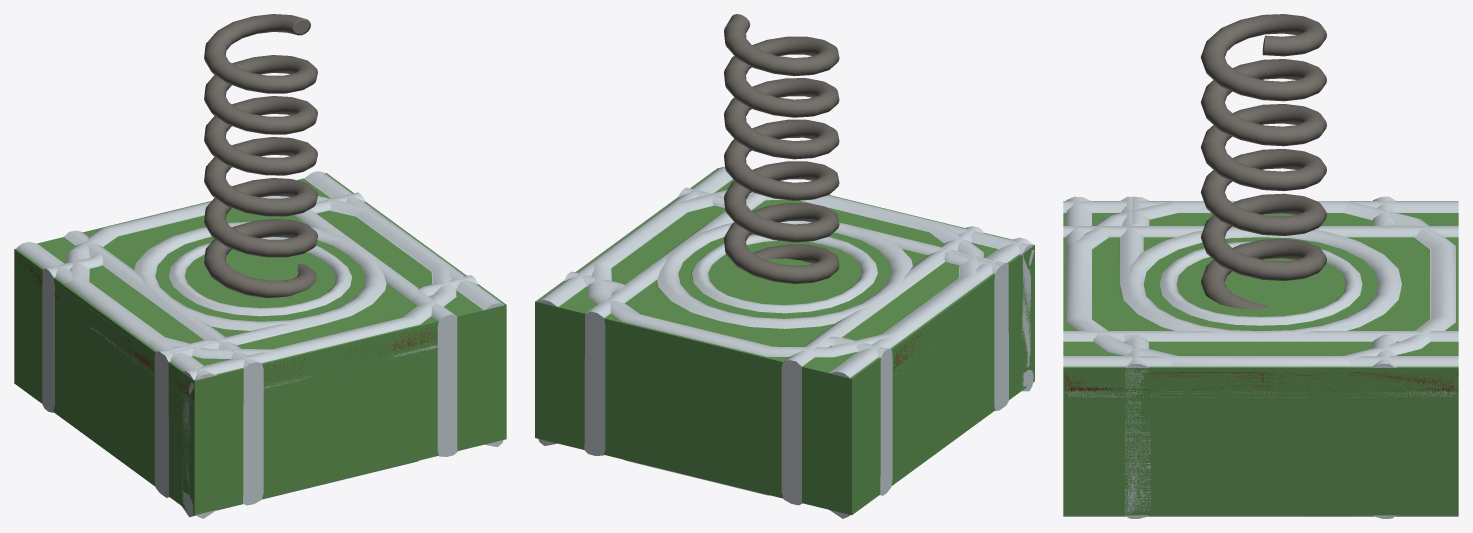
Rendered from Platforms.fbx.
3 renders of one model, left to right at view 1: azimuth 30°, elevation 25°; view 2: azimuth 150°, elevation 25°; view 3: azimuth 270°, elevation 25°, orthographic. The views are drawn at different scales.
Visible parts, largest first — view 1: PlatClean, Spring, PlatBorderedSide, PlatBorderCorner, PlatBorderInwardsX2, PlatBordered, PlatBorderInwardsCorner, PlatBorderInwardsSmallCornerx4, PlatBorderInwardsU, PlatBorderInwardsHole, PlatBorderedSides, PlatBorderSideInwardsSmallCornerx2 (+2 smaller); view 2: PlatBorderInwardsHole, Spring, PlatBordered, PlatBorderInwardsX2, PlatBorderCorner, PlatClean, PlatBorderInwardsU, PlatBorderedSide, PlatBorderInwardsHoleSmaller, PlatBorderInwardsCorner, PlatBorderInwardsSmallCorner, PlatBorderInwardsSmallCornerx4 (+2 smaller); view 3: PlatClean, Spring, PlatBorderInwardsCorner, PlatBordered, PlatBorderInwardsX2, PlatBorderInwardsHole, PlatBorderInwardsHoleSmaller, PlatBorderedSides, PlatBorderCorner, PlatBorderedSide, PlatBorderInwardsSmallCornerx4, PlatBorderInwardsU (+4 smaller).
Part boxes in pixels (<box>): PlatClean: <box>14,173,504,514</box>; Spring: <box>204,14,317,298</box>; PlatBorderedSide: <box>14,172,503,513</box>; PlatBorderCorner: <box>14,171,396,517</box>; PlatBorderInwardsX2: <box>14,173,506,515</box>; PlatBordered: <box>65,196,456,495</box>; PlatBorderInwardsCorner: <box>163,174,504,497</box>; PlatBorderInwardsSmallCornerx4: <box>281,173,506,456</box>; PlatBorderInwardsU: <box>15,230,351,514</box>; PlatBorderInwardsHole: <box>14,175,401,447</box>; PlatBorderedSides: <box>16,171,502,518</box>; PlatBorderSideInwardsSmallCornerx2: <box>92,253,263,505</box>; PlatBorderInwardsHole: <box>535,227,958,514</box>; Spring: <box>724,14,839,283</box>; PlatBordered: <box>588,189,983,495</box>; PlatBorderInwardsX2: <box>535,169,1034,514</box>; PlatBorderCorner: <box>537,210,1034,513</box>; PlatClean: <box>535,170,1034,485</box>; PlatBorderInwardsU: <box>787,218,1034,515</box>; PlatBorderedSide: <box>545,166,1034,475</box>; PlatBorderInwardsHoleSmaller: <box>613,208,937,345</box>; PlatBorderInwardsCorner: <box>535,169,1020,449</box>; PlatBorderInwardsSmallCorner: <box>781,337,892,505</box>; PlatBorderInwardsSmallCornerx4: <box>547,168,782,455</box>; PlatClean: <box>1063,201,1458,515</box>; Spring: <box>1200,14,1326,309</box>; PlatBorderInwardsCorner: <box>1063,196,1458,515</box>; PlatBordered: <box>1066,201,1455,516</box>; PlatBorderInwardsX2: <box>1063,201,1458,515</box>; PlatBorderInwardsHole: <box>1227,227,1458,515</box>; PlatBorderInwardsHoleSmaller: <box>1102,241,1419,330</box>; PlatBorderedSides: <box>1063,201,1458,516</box>; PlatBorderCorner: <box>1066,196,1458,516</box>; PlatBorderedSide: <box>1063,201,1458,516</box>; PlatBorderInwardsSmallCornerx4: <box>1063,331,1458,518</box>; PlatBorderInwardsU: <box>1094,201,1458,299</box>.
Size of the model in its own units: 167 by 198 by 167.
